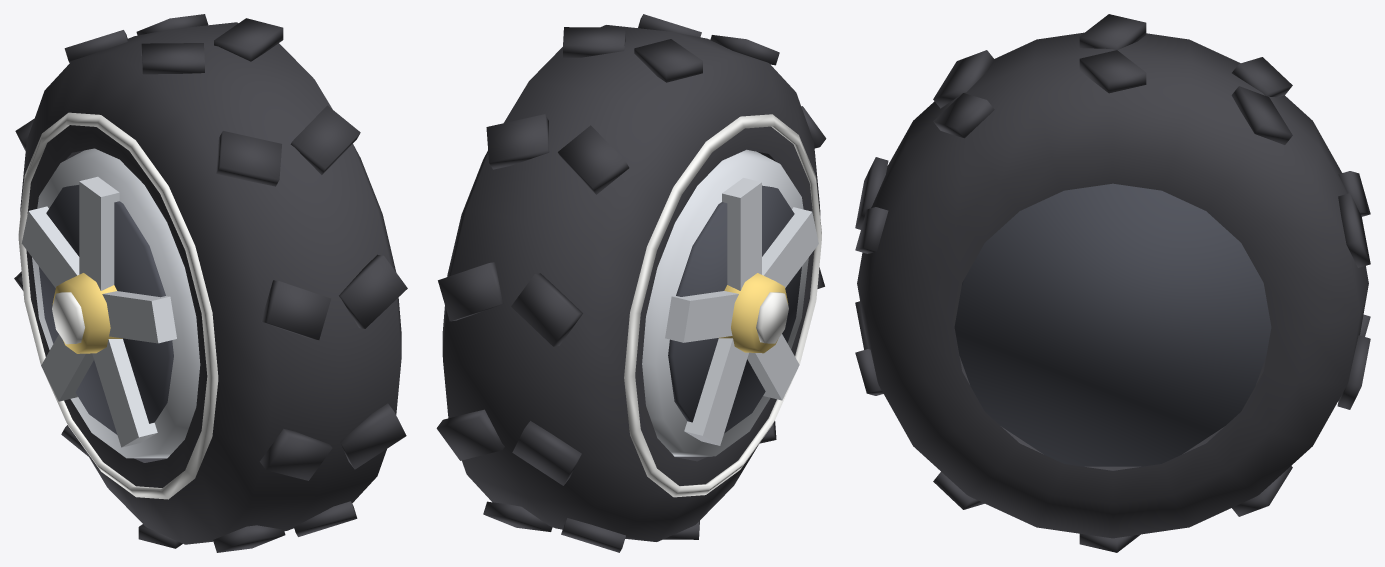
The model's file is kartwheel.glb.
3 renders of one model, left to right at view 1: azimuth 30°, elevation 25°; view 2: azimuth 150°, elevation 25°; view 3: azimuth 270°, elevation 25°, orthographic.
Parts seen in each view (by area): view 1: K_Wheel; view 2: K_Wheel; view 3: K_Wheel.
Boxes of the visible parts, left/top/right/bottom form: K_Wheel: left=14, top=14, right=407, bottom=552; K_Wheel: left=436, top=14, right=826, bottom=552; K_Wheel: left=855, top=14, right=1370, bottom=552.
Bounding box in the file's own units: 0.44 × 0.854 × 0.846.
